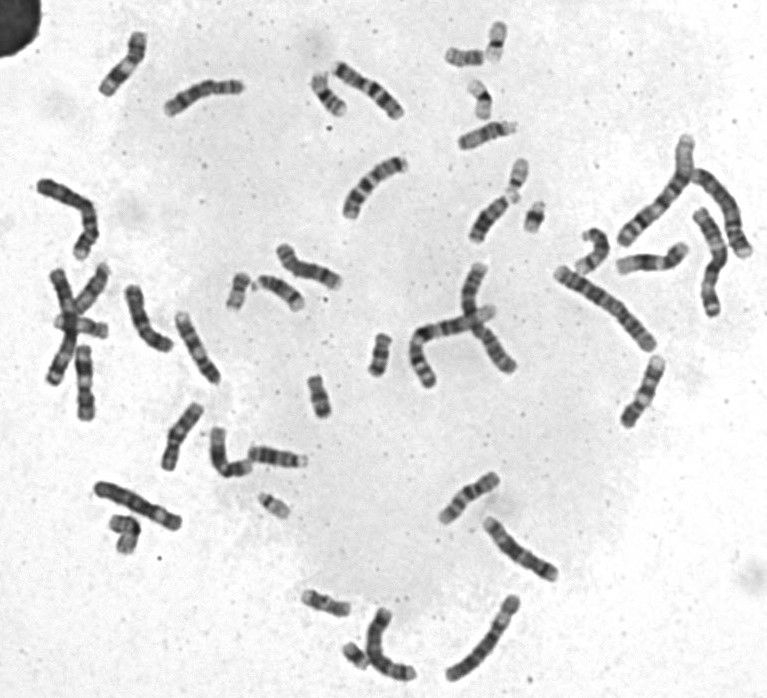chromosomes: (612, 124, 707, 254), (550, 261, 664, 359), (402, 300, 507, 394), (454, 257, 526, 381), (438, 589, 525, 687), (686, 164, 760, 264), (30, 171, 103, 267), (479, 509, 564, 590), (34, 264, 83, 390), (337, 150, 419, 225), (361, 600, 427, 691), (328, 53, 412, 124), (88, 476, 189, 535), (687, 202, 730, 324), (156, 73, 254, 125), (434, 464, 508, 531), (118, 279, 179, 359), (171, 305, 227, 391), (615, 351, 670, 435), (93, 25, 153, 102), (272, 240, 349, 295), (157, 395, 208, 477), (613, 236, 695, 282), (465, 191, 525, 249), (203, 420, 255, 484), (70, 256, 122, 318), (250, 270, 310, 320), (569, 221, 615, 282), (302, 69, 354, 122), (453, 117, 525, 155), (70, 340, 101, 428), (244, 443, 320, 475), (298, 583, 359, 622), (49, 309, 117, 343), (105, 509, 146, 564), (247, 484, 298, 527), (480, 15, 517, 70), (459, 74, 499, 124), (302, 369, 336, 424), (365, 330, 399, 382), (220, 269, 257, 315), (438, 42, 488, 74), (333, 639, 375, 676), (504, 153, 537, 198), (518, 196, 555, 236)
